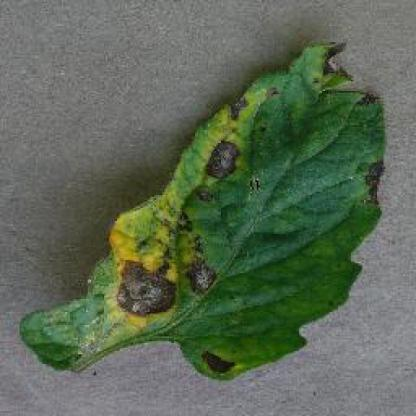Tomato_Blight: (21, 45, 388, 382)
